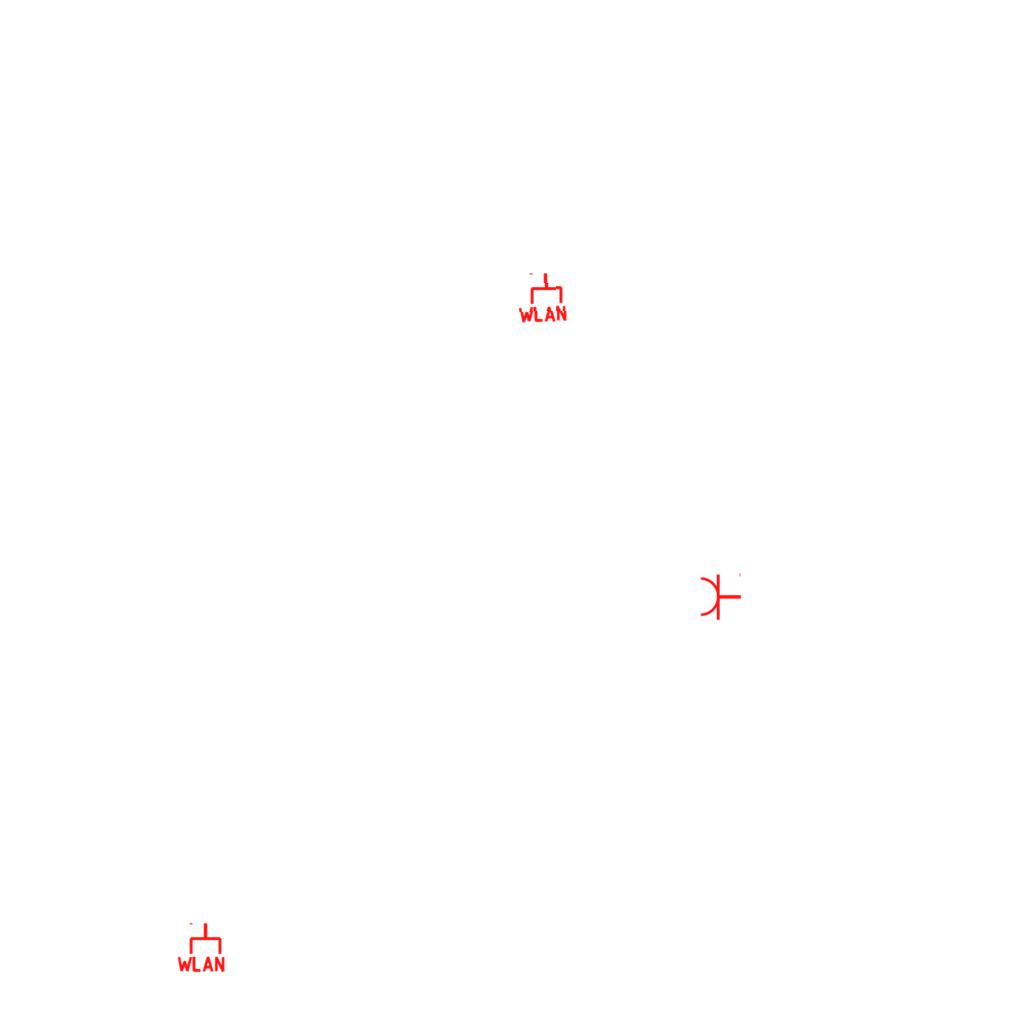Schukosteckdose_einfach: (699, 571, 742, 621)
WLAN: (515, 270, 569, 324), (175, 921, 227, 973)
